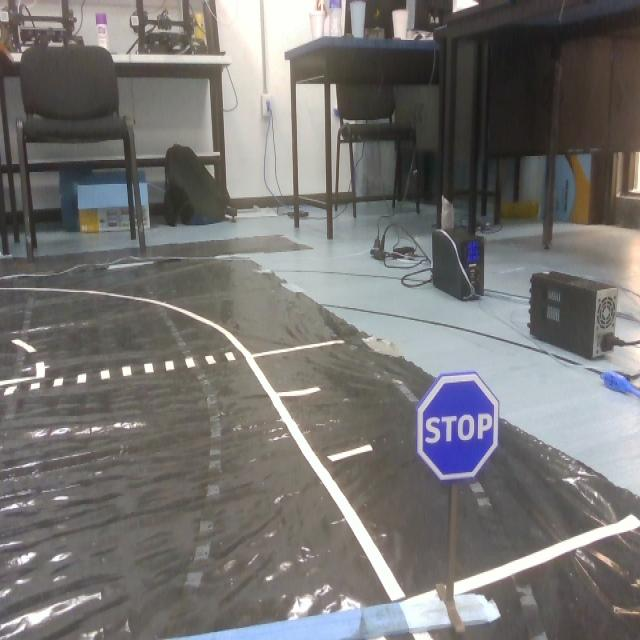no_entry: (425, 372, 503, 488)
